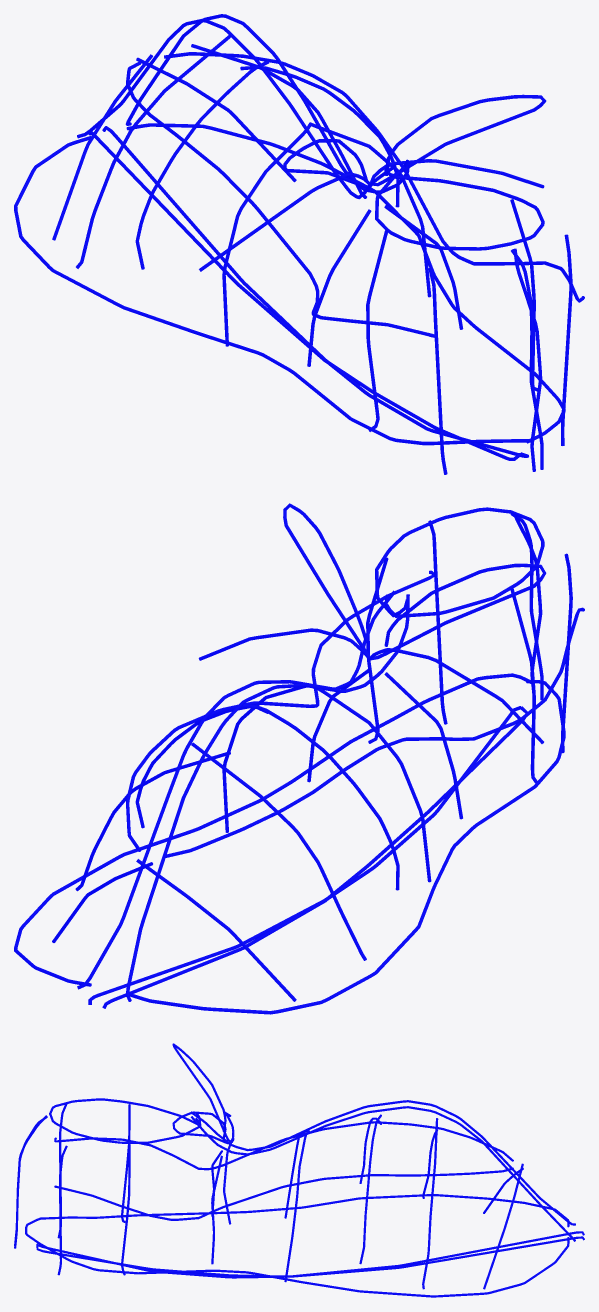
File: cassie_p12_shoe.glb
The picture shows the model from 3 angles, top to bottom: view 1: azimuth 30°, elevation 25°; view 2: azimuth 150°, elevation 25°; view 3: azimuth 270°, elevation 25°; orthographic projection. The views are drawn at different scales.
Parts seen in each view (by area): view 1: cassie_p12_shoe; view 2: cassie_p12_shoe; view 3: cassie_p12_shoe.
Part boxes in pixels (x1=…): cassie_p12_shoe: x1=14, y1=14, x2=584, y2=474; cassie_p12_shoe: x1=14, y1=503, x2=584, y2=1014; cassie_p12_shoe: x1=14, y1=1043, x2=584, y2=1297.
Size of the model in its own units: 0.4507 by 0.3779 by 1.
